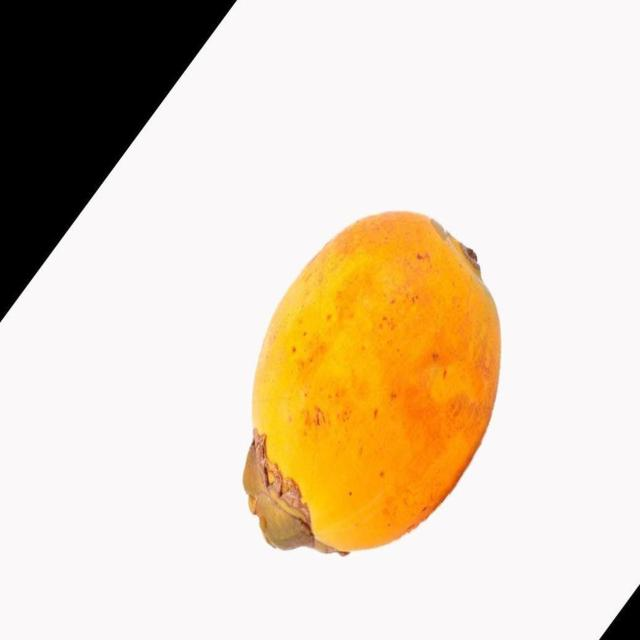good: (241, 211, 502, 557)
